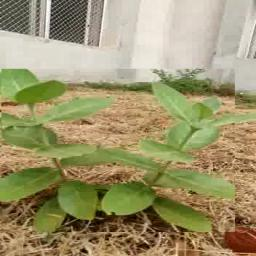CALOTROPIS: (2, 68, 236, 232)
